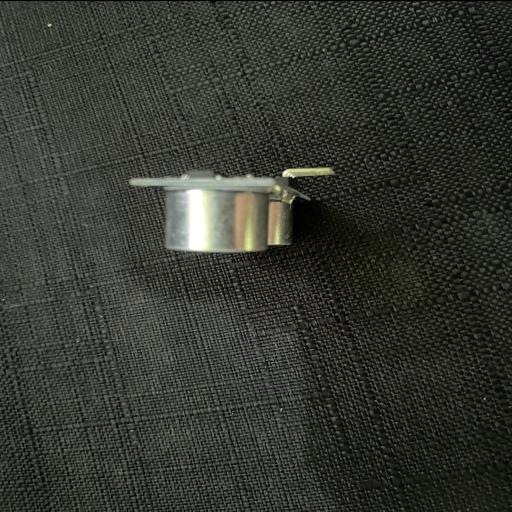Ultrasonic Sensor: (128, 166, 336, 254)
